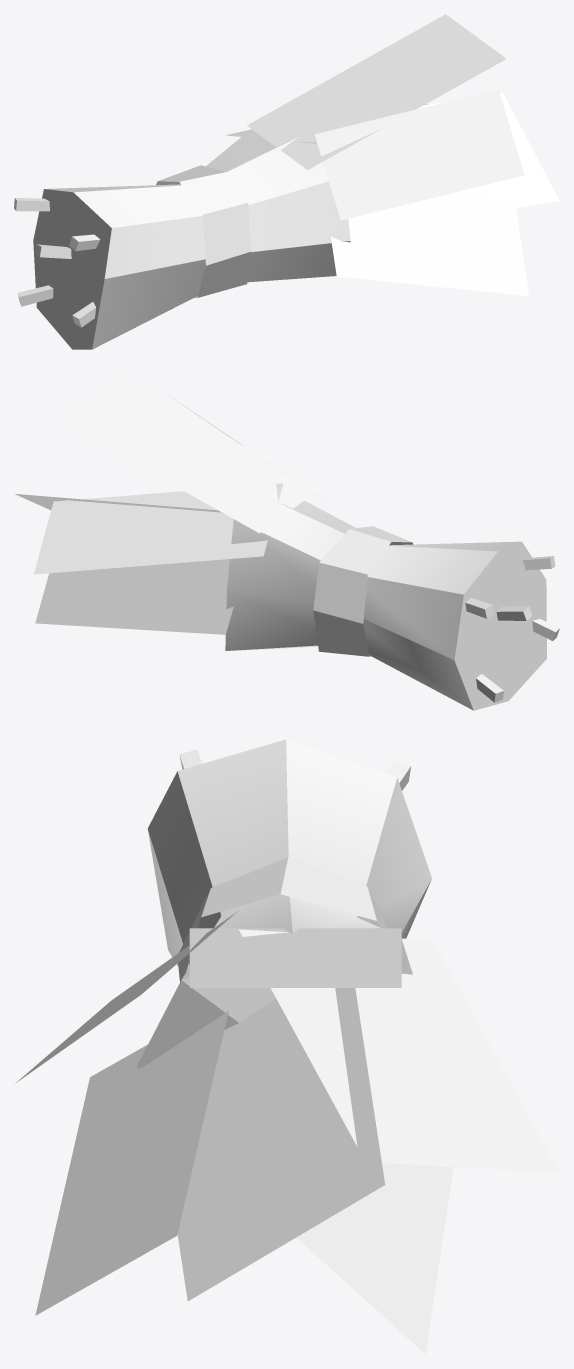
File: wheatSheef.glb
3 views of the same model, one above another, from view 1: azimuth 30°, elevation 25°; view 2: azimuth 150°, elevation 25°; view 3: azimuth 270°, elevation 25° (orthographic). The views are drawn at different scales.
Visible parts, largest first — view 1: WheetSheef; view 2: WheetSheef; view 3: WheetSheef.
Part boxes in pixels (left/top/right/bottom): WheetSheef: left=14, top=14, right=559, bottom=349; WheetSheef: left=15, top=378, right=559, bottom=710; WheetSheef: left=16, top=739, right=559, bottom=1354.
Size of the model in its own units: 2.48 by 0.9995 by 1.37.
Materials: 1 (1 with a texture image).
